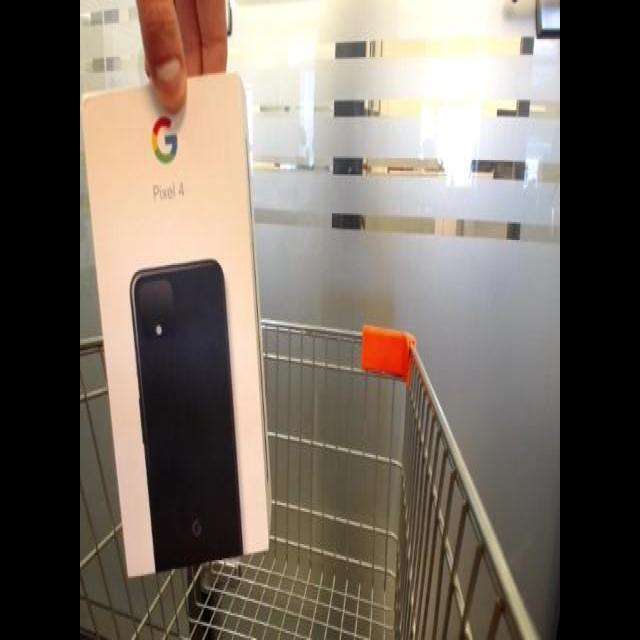Pixel 4: (80, 57, 270, 588)
